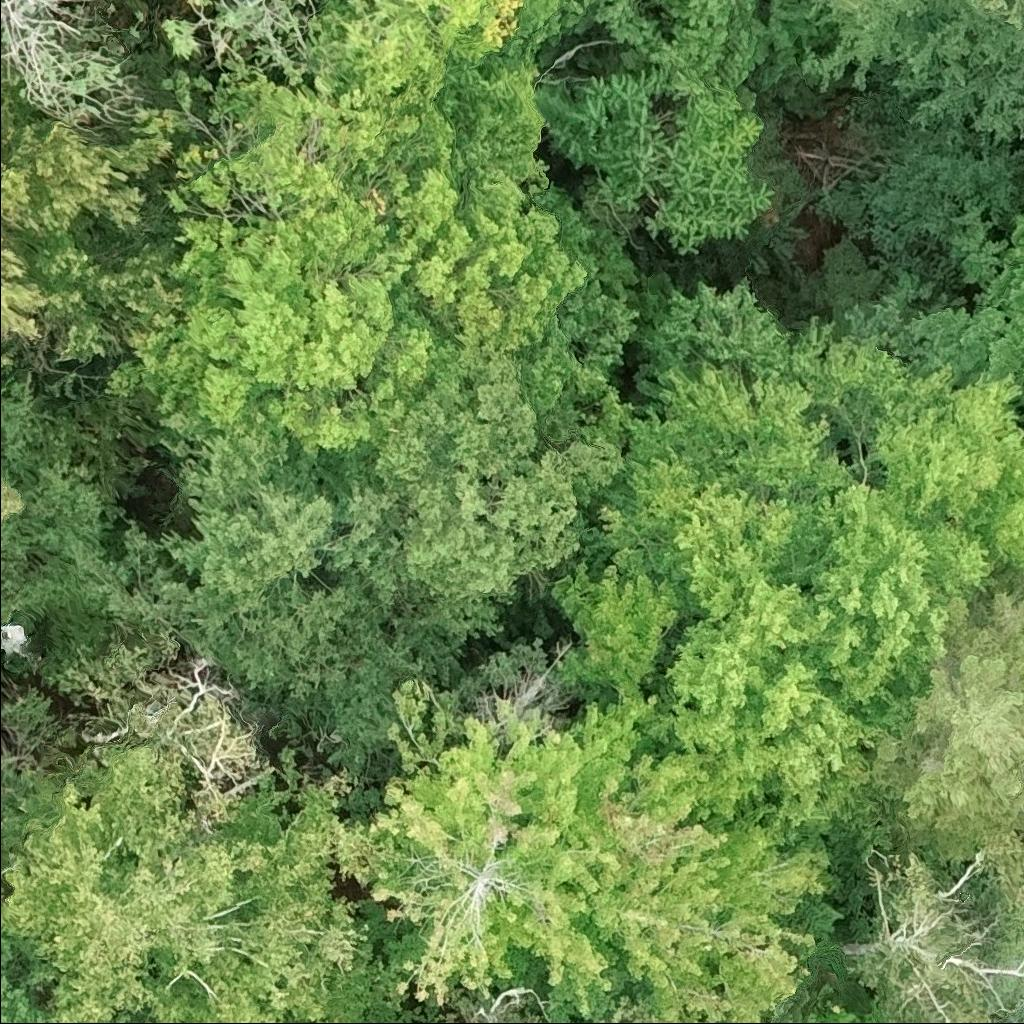crown: (580, 314, 1023, 857), (104, 55, 597, 467), (363, 677, 832, 1023), (0, 738, 405, 1023), (367, 331, 630, 641), (147, 427, 407, 702), (865, 565, 1023, 863), (537, 65, 773, 257), (0, 90, 177, 340), (798, 0, 1023, 143), (301, 0, 559, 115), (0, 0, 151, 129), (550, 553, 678, 702), (0, 928, 56, 1023), (971, 0, 1023, 32), (0, 472, 29, 523), (1011, 204, 1023, 257), (0, 351, 15, 376), (126, 1012, 143, 1023)
